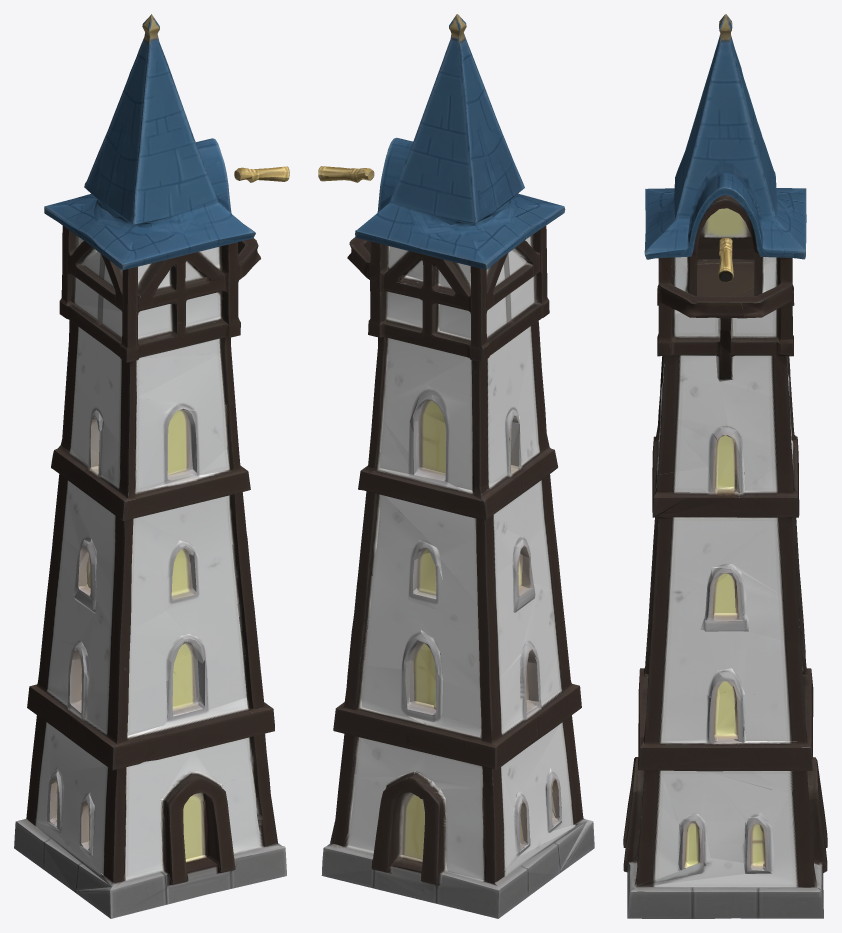
Rendered from academy_tower.glb.
3 renders of one model, left to right at view 1: azimuth 30°, elevation 25°; view 2: azimuth 150°, elevation 25°; view 3: azimuth 270°, elevation 25°, orthographic.
Visible parts, largest first — view 1: academy_tower; view 2: academy_tower; view 3: academy_tower.
Boxes of the visible parts, x1,y1,x2,y2 form: academy_tower: [14, 14, 289, 918]; academy_tower: [318, 14, 594, 918]; academy_tower: [623, 14, 827, 918].
Size of the model in its own units: 4.47 by 16 by 3.44.
1 material, 1 textured.
